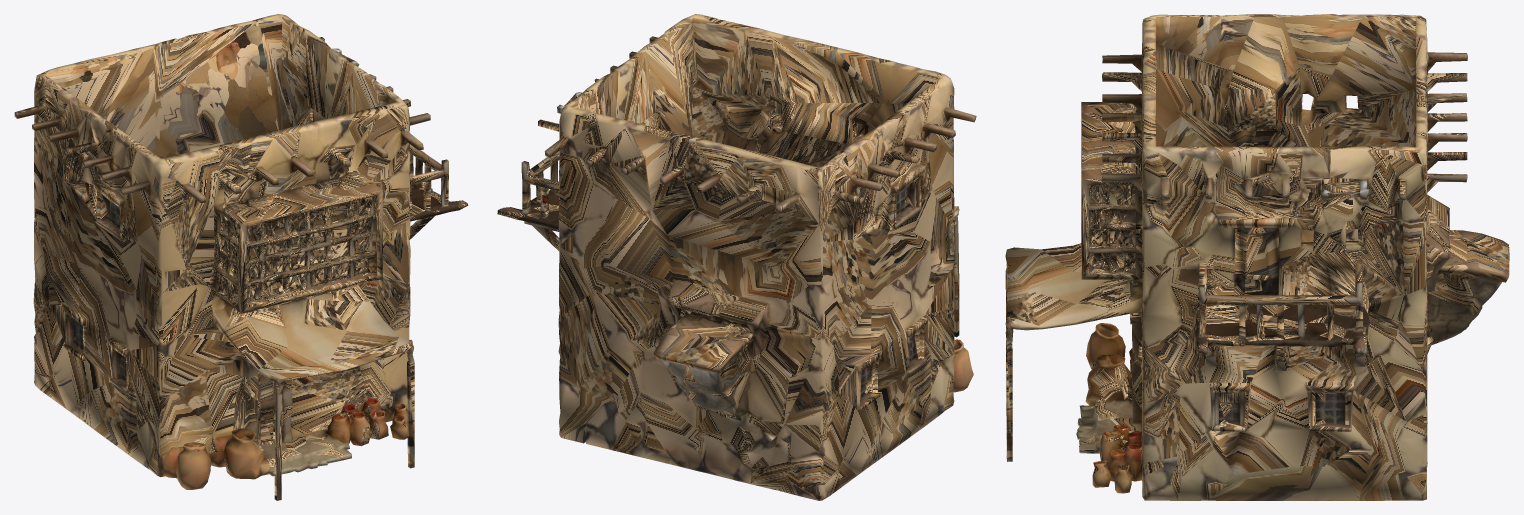
File: Desert_Dwelling.glb
The picture shows the model from 3 angles, left to right: view 1: azimuth 30°, elevation 25°; view 2: azimuth 150°, elevation 25°; view 3: azimuth 270°, elevation 25°; orthographic projection. The views are drawn at different scales.
Parts seen in each view (by area): view 1: Desert_Dwelling; view 2: Desert_Dwelling; view 3: Desert_Dwelling.
Boxes of the visible parts, x1,y1,x2,y2 form: Desert_Dwelling: (14,14,468,500); Desert_Dwelling: (497,14,976,500); Desert_Dwelling: (1005,14,1509,500).
Bounding box in the file's own units: 1.69 × 1.38 × 1.8.
Materials: 1 (1 with a texture image).
